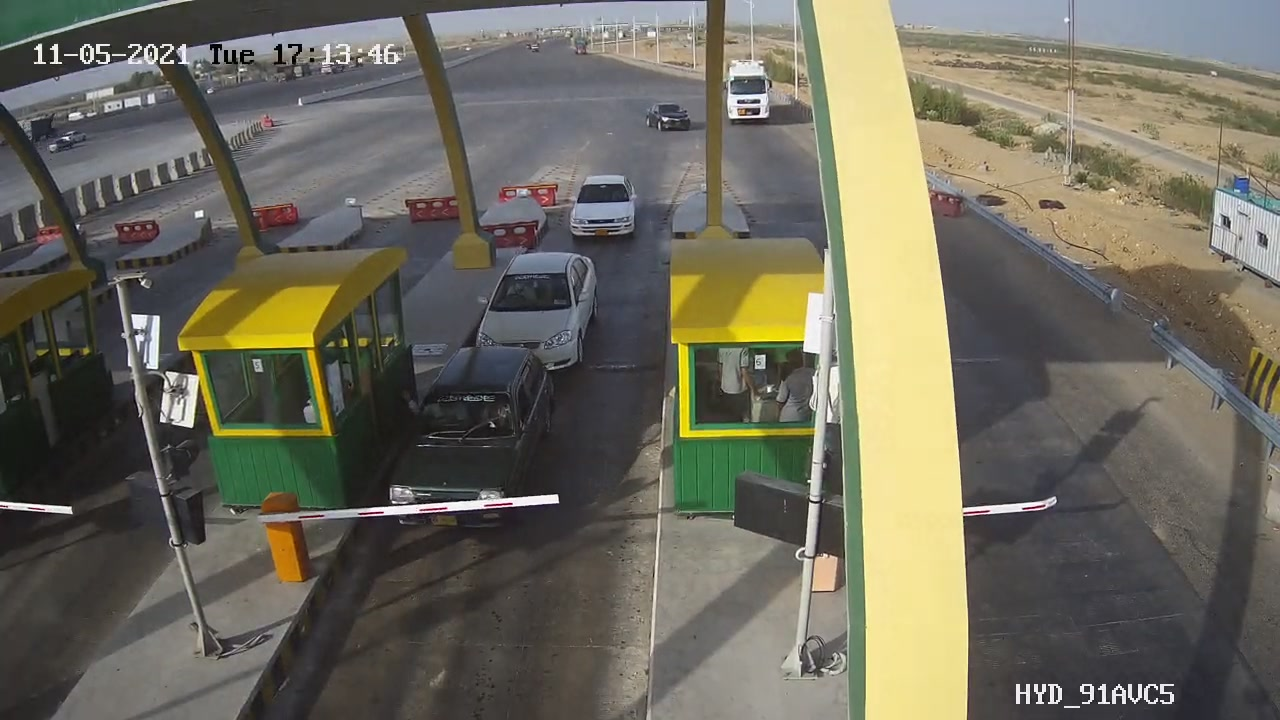F1: (376, 330, 574, 556), (463, 239, 608, 398), (555, 160, 650, 251)
